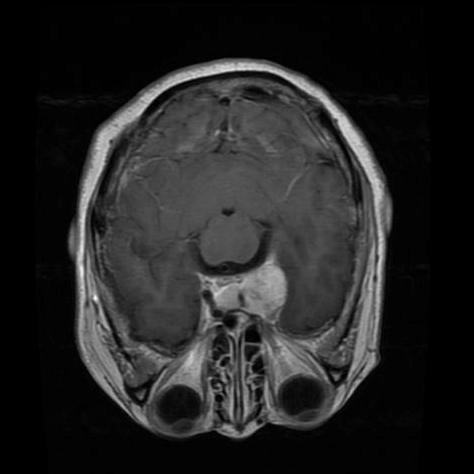Tumour-Meningioma: (196, 215, 301, 321)
